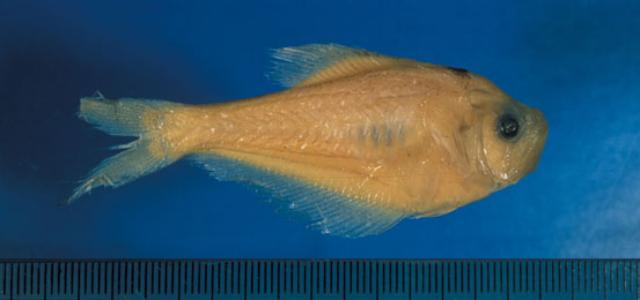Mulut: (526, 104, 562, 176)
Sirip Anal: (191, 141, 399, 243)
Sirip Ekor: (62, 88, 188, 218)
Sirip Punggung: (260, 28, 400, 96)
